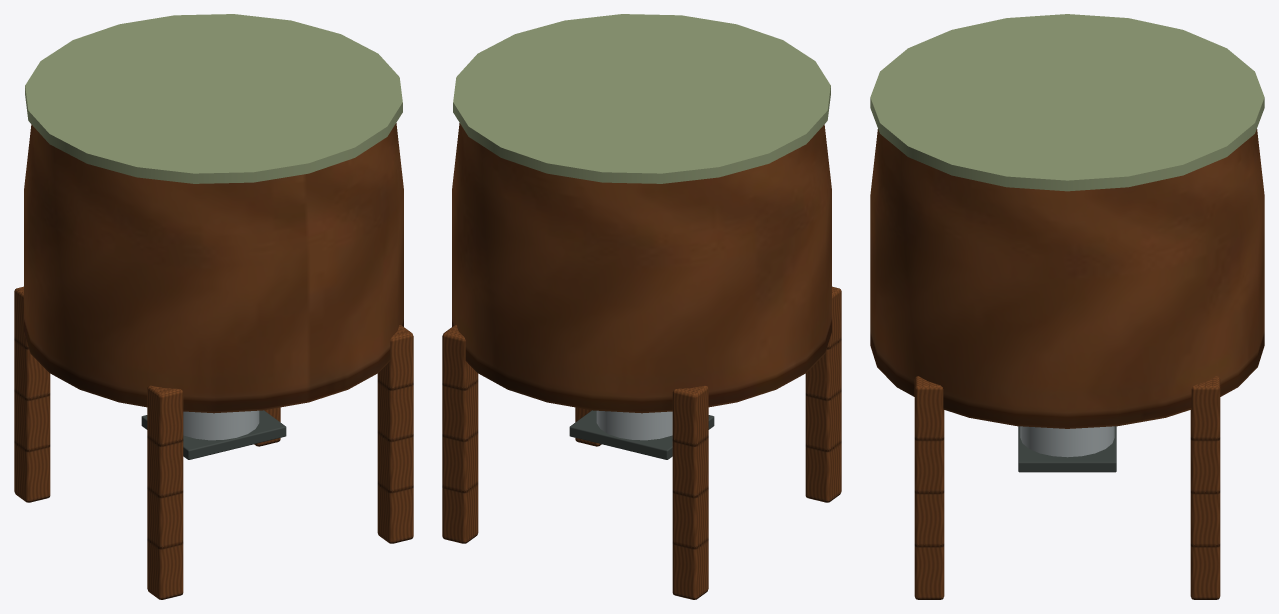
File: creature-husbandry-and-transport-feed-storage-hopper-371159b3__24001.glb
3 views of the same model, side by side, from view 1: azimuth 30°, elevation 25°; view 2: azimuth 150°, elevation 25°; view 3: azimuth 270°, elevation 25° (orthographic). The views are drawn at different scales.
Visible parts, largest first — view 1: feed-storage-hopper; view 2: feed-storage-hopper; view 3: feed-storage-hopper.
Boxes of the visible parts, box(x1,y1,x2,y2) form: feed-storage-hopper: box(14, 14, 413, 599); feed-storage-hopper: box(442, 14, 841, 599); feed-storage-hopper: box(870, 14, 1264, 599).
Size of the model in its own units: 1 by 1.23 by 1.
4 materials, 1 textured.
